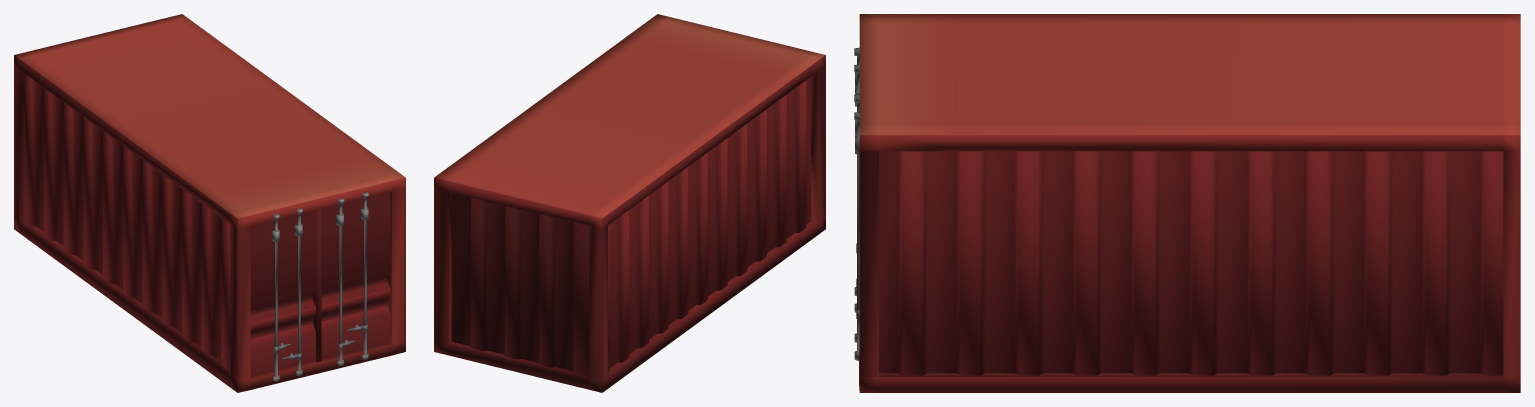
File: furnishings-outdoor-shippingcontainer_v1.glb
3 views of the same model, side by side, from view 1: azimuth 30°, elevation 25°; view 2: azimuth 150°, elevation 25°; view 3: azimuth 270°, elevation 25° (orthographic). The views are drawn at different scales.
Parts seen in each view (by area): view 1: ShippingContainer.001; view 2: ShippingContainer.001; view 3: ShippingContainer.001.
Part boxes in pixels (x1,y1,x2,y2): ShippingContainer.001: [14, 14, 405, 392]; ShippingContainer.001: [434, 14, 825, 392]; ShippingContainer.001: [854, 14, 1520, 392].
Size of the model in its own units: 4.49 by 4.45 by 10.42.
